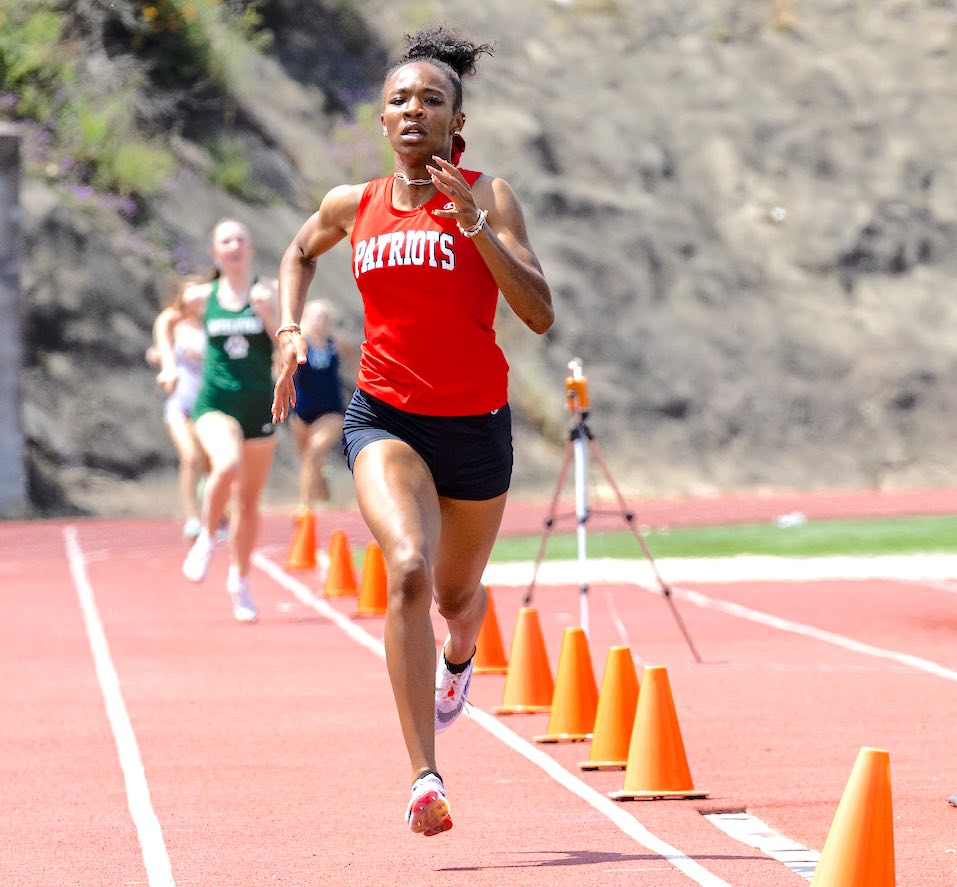runner: (274, 46, 560, 835), (158, 222, 307, 625)
